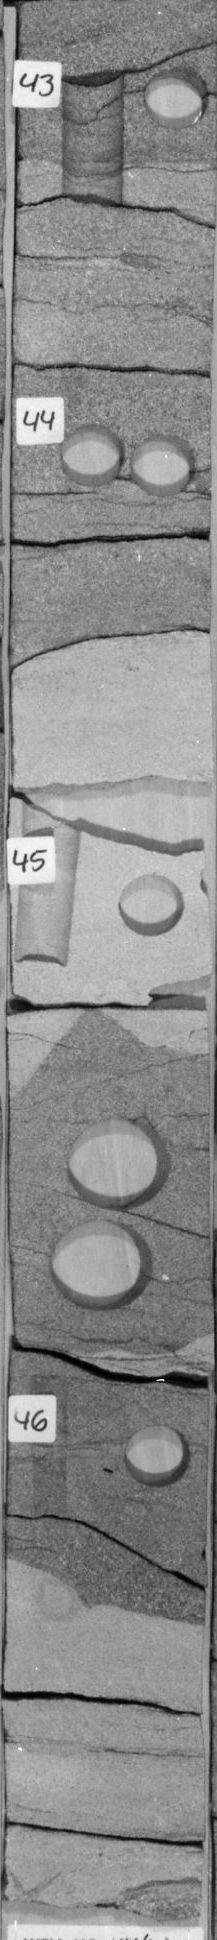hplug: (115, 1413, 201, 1500), (53, 411, 129, 492), (136, 61, 213, 137), (126, 431, 201, 504), (112, 867, 187, 939)
scal: (61, 1109, 175, 1215), (47, 1219, 159, 1316)
vplug: (11, 797, 91, 971), (55, 66, 129, 212), (19, 1370, 81, 1519)
